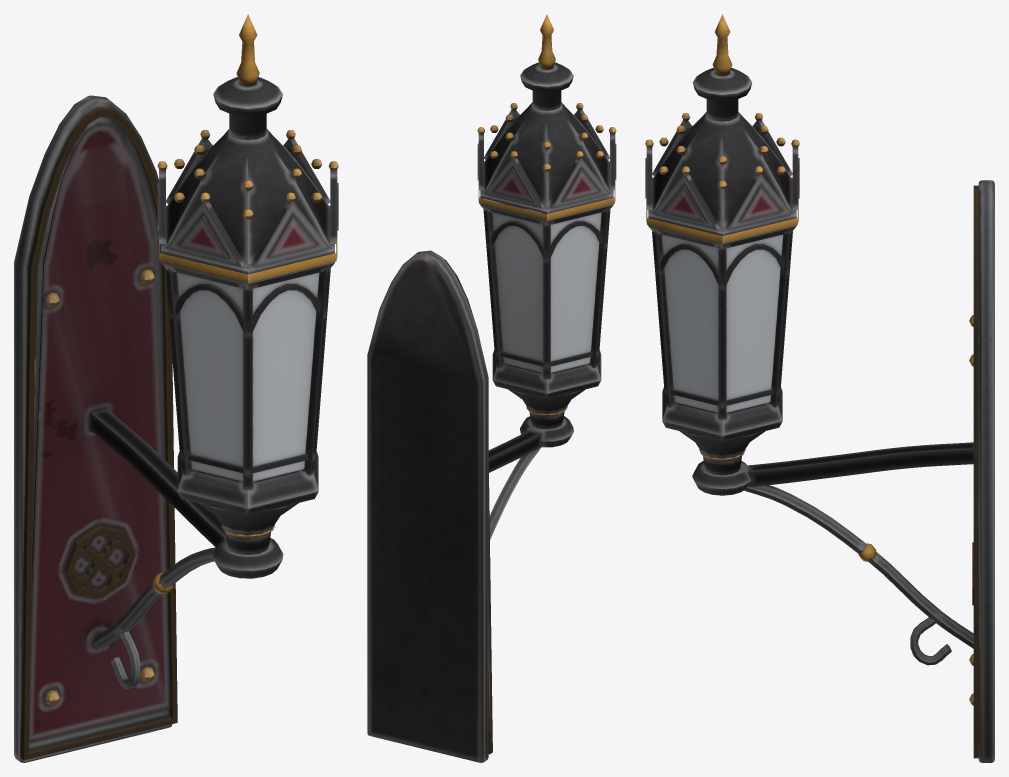
File: WallLantern.fbx
3 renders of one model, left to right at view 1: azimuth 30°, elevation 25°; view 2: azimuth 150°, elevation 25°; view 3: azimuth 270°, elevation 25°, orthographic. The views are drawn at different scales.
Parts seen in each view (by area): view 1: WallLantern_Main, WallLantern_Glass; view 2: WallLantern_Main, WallLantern_Glass; view 3: WallLantern_Main, WallLantern_Glass.
Boxes of the visible parts, bbox=[...] form: WallLantern_Main: bbox=[14, 14, 338, 762]; WallLantern_Glass: bbox=[177, 272, 319, 481]; WallLantern_Main: bbox=[367, 14, 616, 762]; WallLantern_Glass: bbox=[492, 212, 601, 372]; WallLantern_Main: bbox=[645, 14, 994, 762]; WallLantern_Glass: bbox=[661, 234, 783, 412].
Bounding box in the file's own units: 75.14 × 339 × 150.
